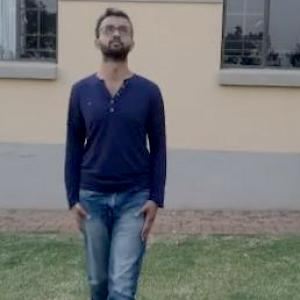follow: (57, 0, 171, 299)
